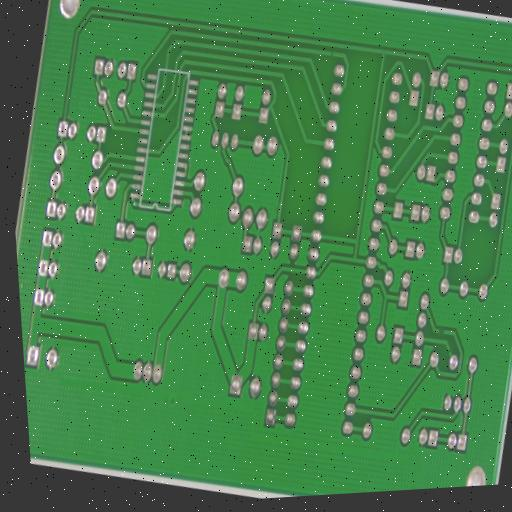open_circuit: (435, 325, 446, 339), (327, 48, 335, 60), (444, 346, 452, 356)
